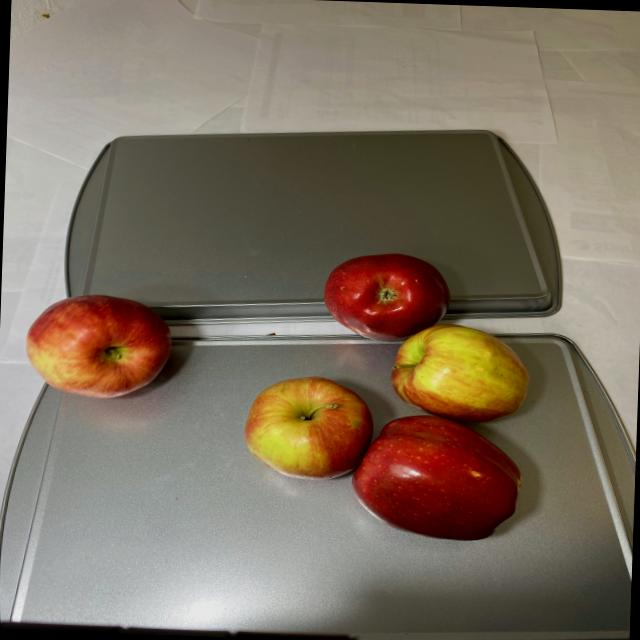apple: (237, 248, 539, 540), (24, 291, 180, 402)
